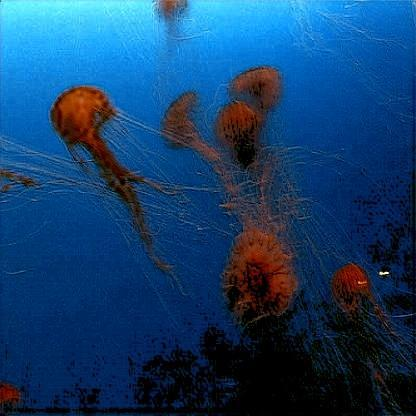Moon: (50, 88, 150, 234), (332, 265, 390, 391), (225, 227, 295, 325), (159, 93, 223, 179), (214, 104, 266, 172), (229, 69, 283, 111), (153, 3, 191, 41), (0, 382, 21, 412)
